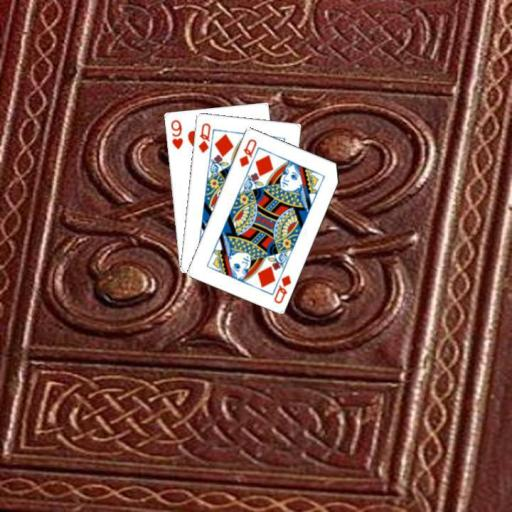9H: (167, 116, 184, 151)
QD: (236, 135, 258, 169), (271, 272, 293, 305), (195, 120, 212, 155)
